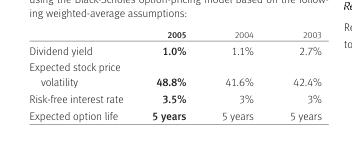table: (28, 28, 320, 120)
table column: (28, 28, 136, 120), (136, 28, 203, 120), (203, 28, 270, 120), (270, 28, 320, 120)
table column header: (28, 28, 320, 41)
table row: (28, 58, 320, 89), (28, 41, 320, 58), (28, 89, 320, 106), (28, 106, 320, 120), (28, 28, 320, 41)
